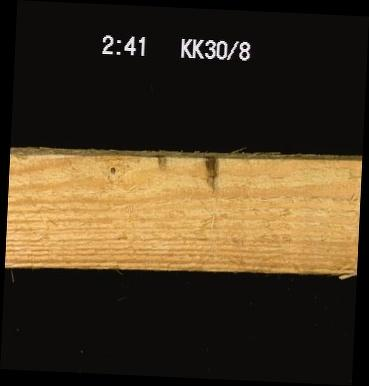small_knot: (105, 159, 119, 177)
